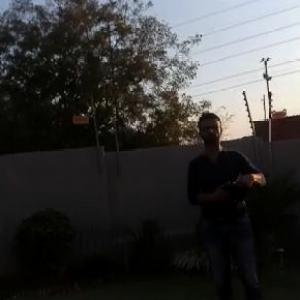follow: (184, 103, 270, 299)
